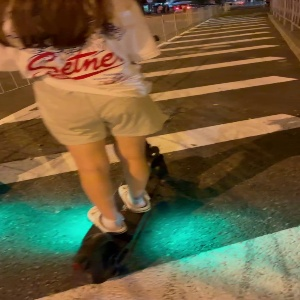human on a scooter: (1, 1, 172, 287)
